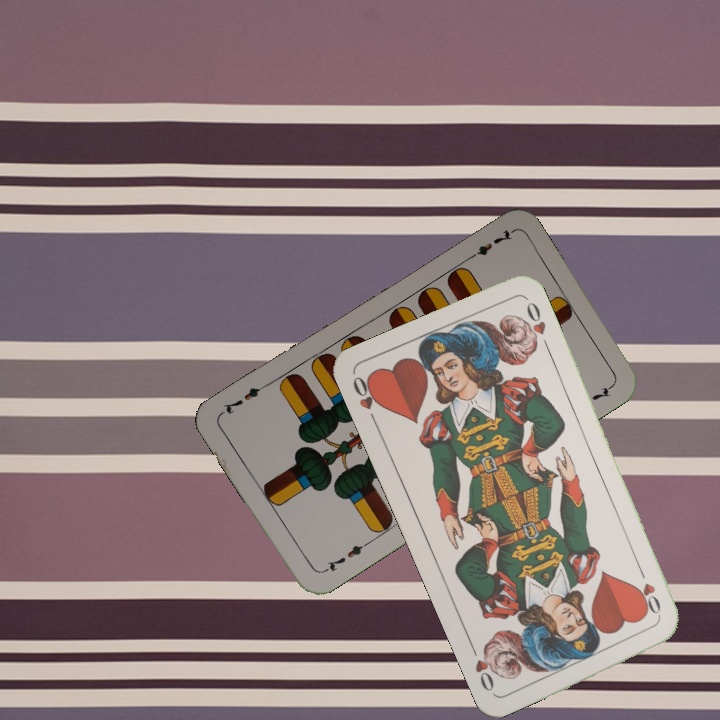E7: (462, 225, 515, 264), (318, 538, 371, 576)
HO: (348, 372, 383, 428), (634, 564, 664, 621)
